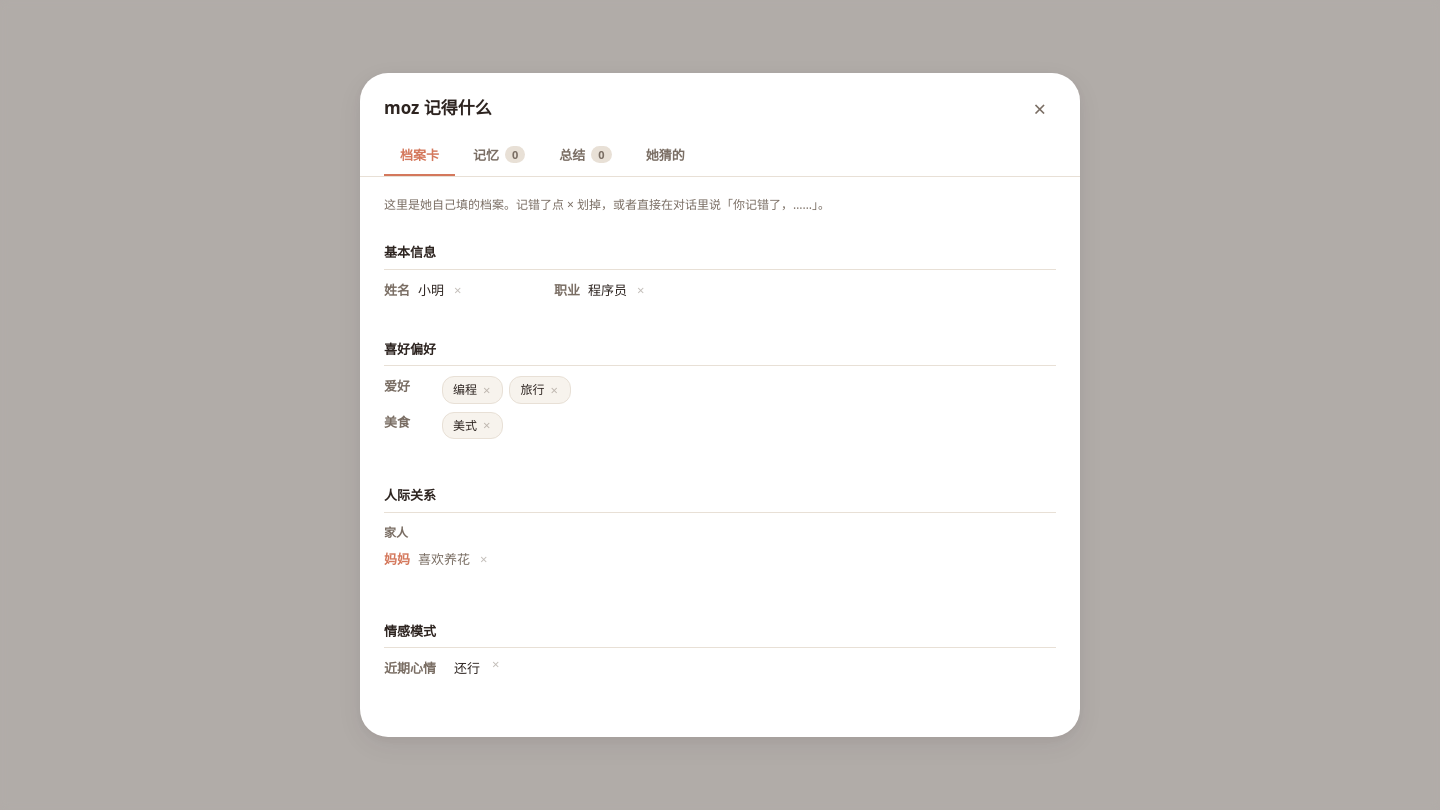
Test: 档案卡上能把记错的划掉 › 后端早就有 PUT /api/profile，本轮第一次把它接上
expect the button with class "mem-tag-x" next to "小明" is shown: met, box [452,284,463,297]
Click the button with class "mem-tag-x" next to "旅行".
click(554, 390)  # box [548,384,560,397]
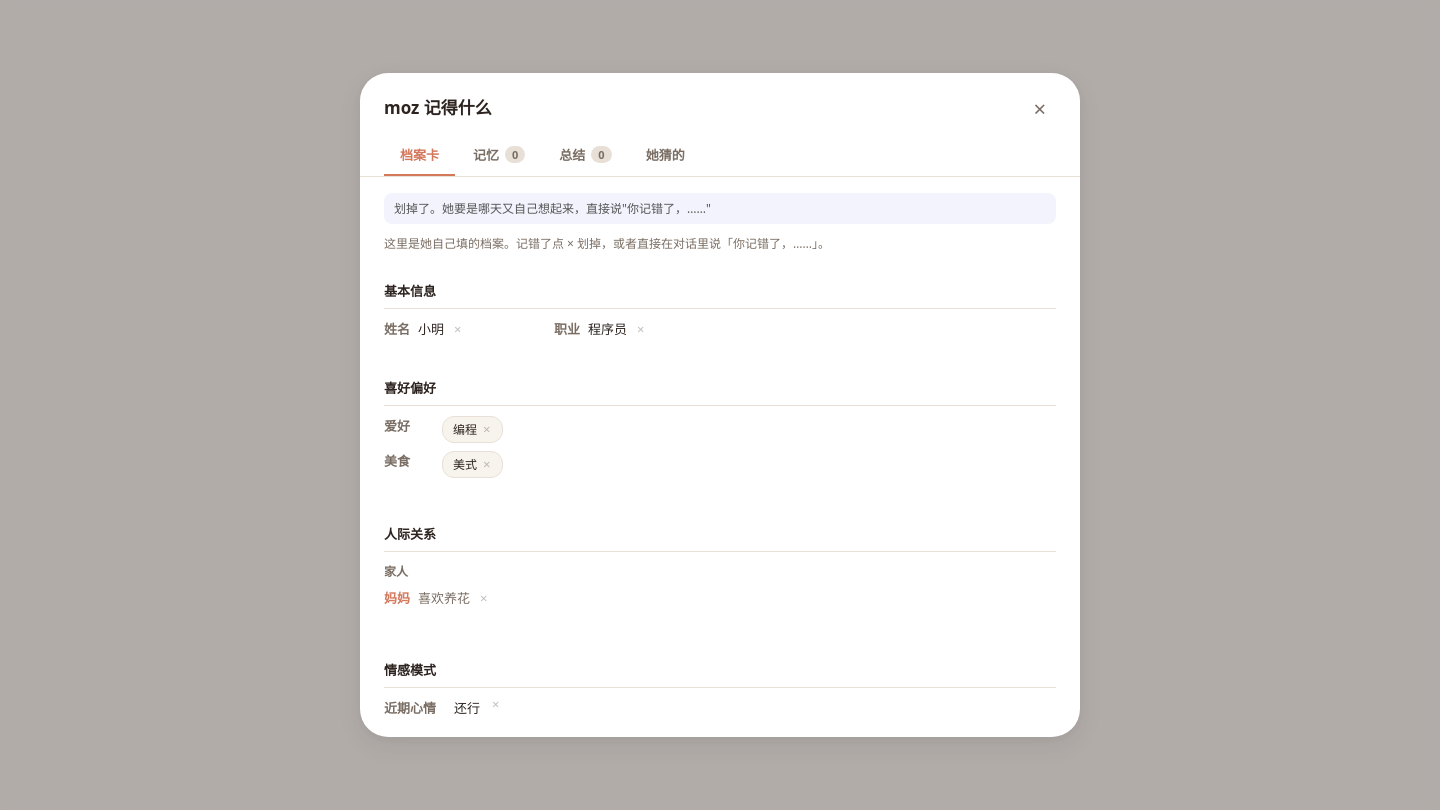
expect the text "编程" is shown: met, box [453,421,477,438]
expect the text "旅行" is gone: met
